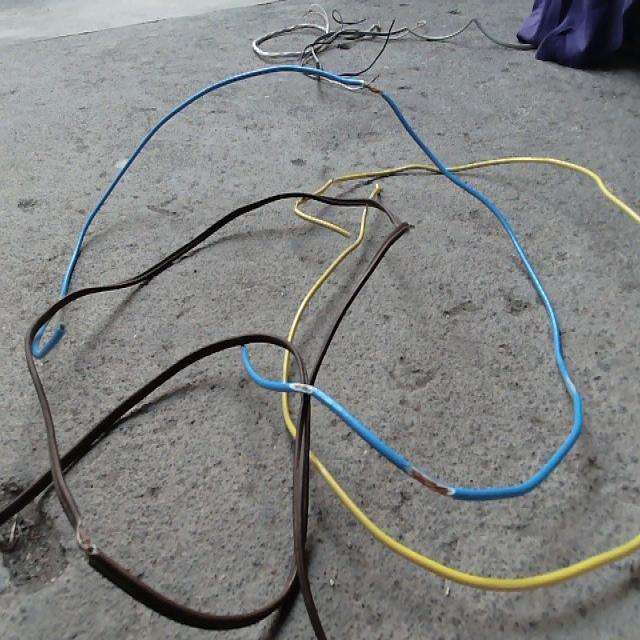-: (405, 463, 453, 496), (73, 517, 95, 560), (288, 380, 313, 395), (361, 80, 383, 96)
